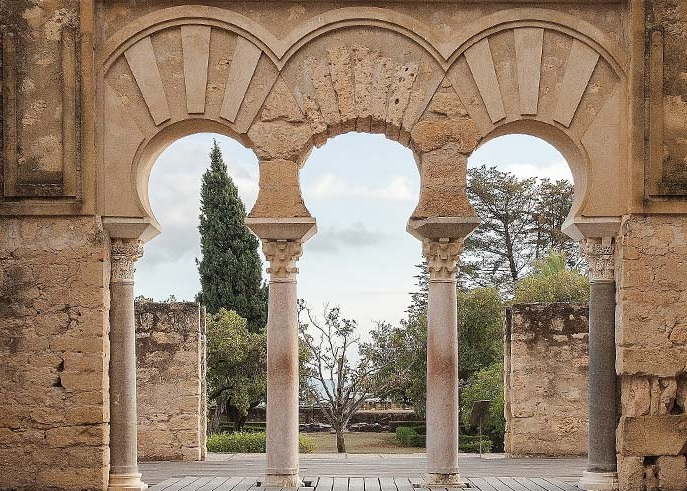arco-herradura: (118, 104, 285, 265), (284, 105, 444, 270), (445, 103, 604, 267)
